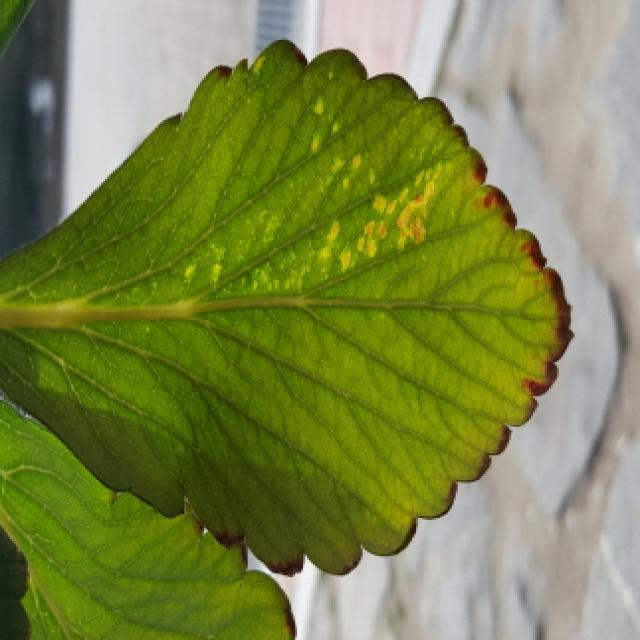Angular Leafspot: (170, 57, 469, 308)
